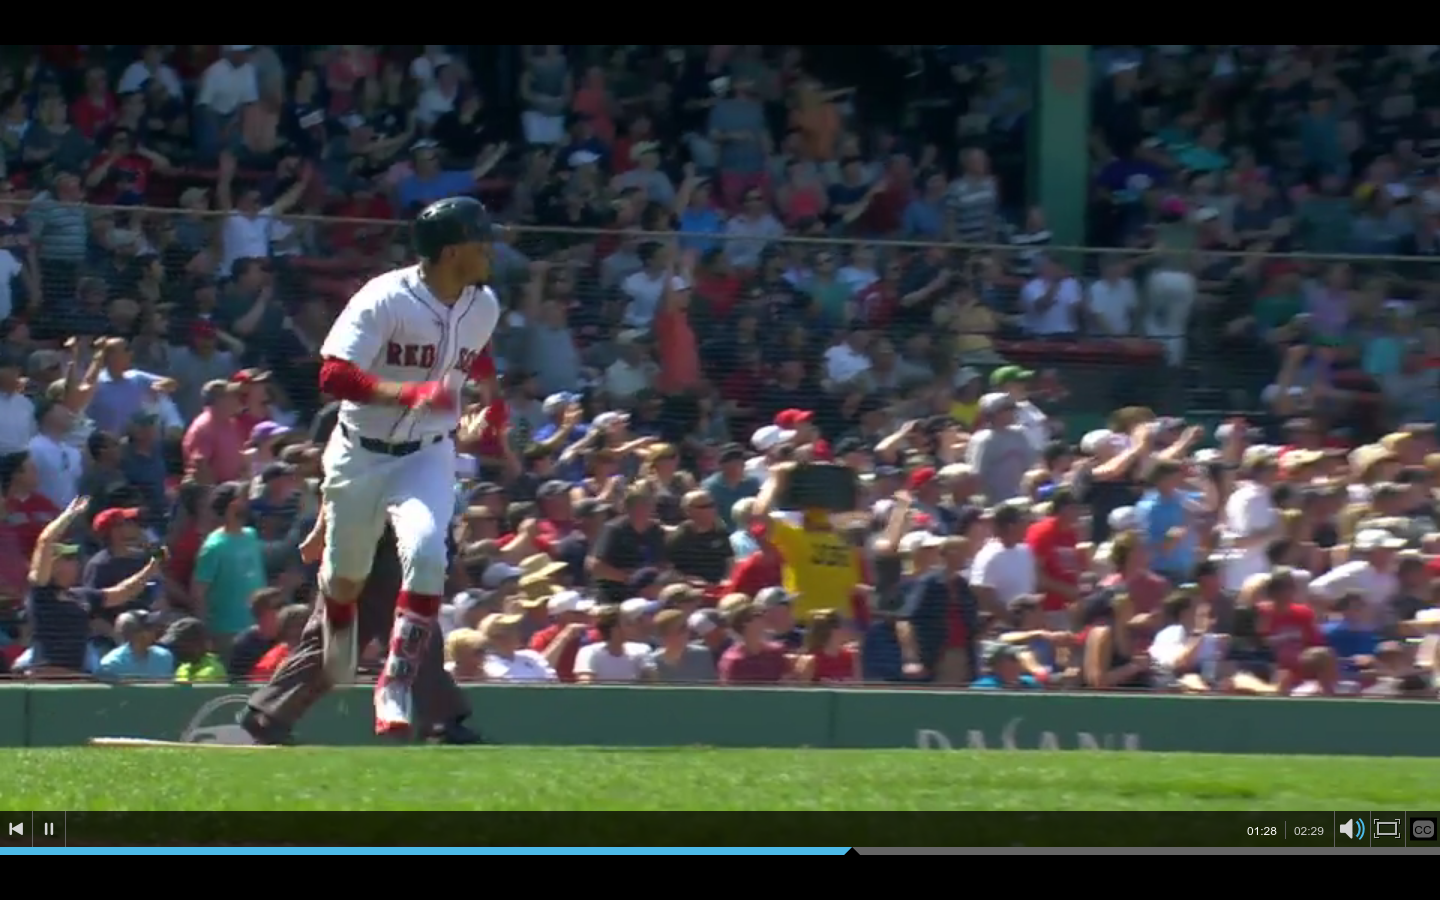baseball player: (301, 191, 510, 754)
